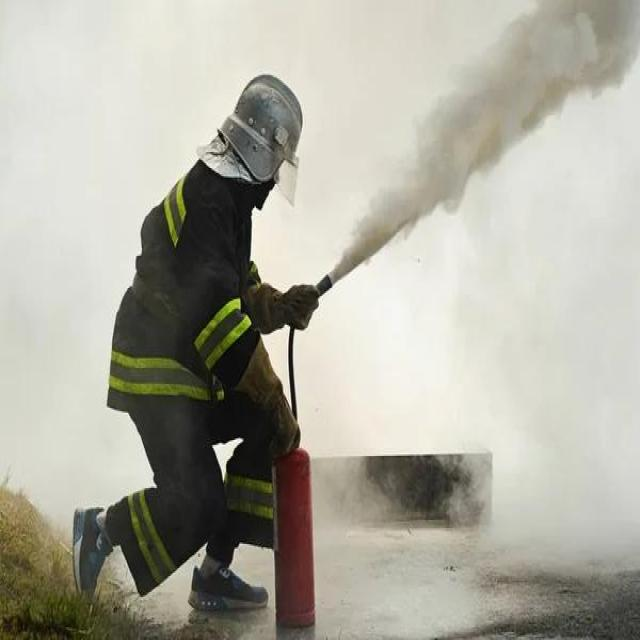fire_extinguisher: (264, 264, 337, 630)
